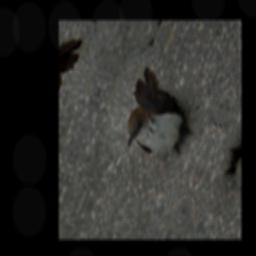Cuckoo: (112, 64, 210, 169)
